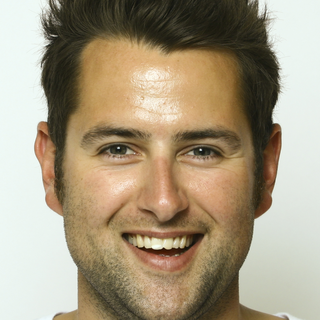eye: (91, 139, 143, 163), (178, 142, 228, 164)
